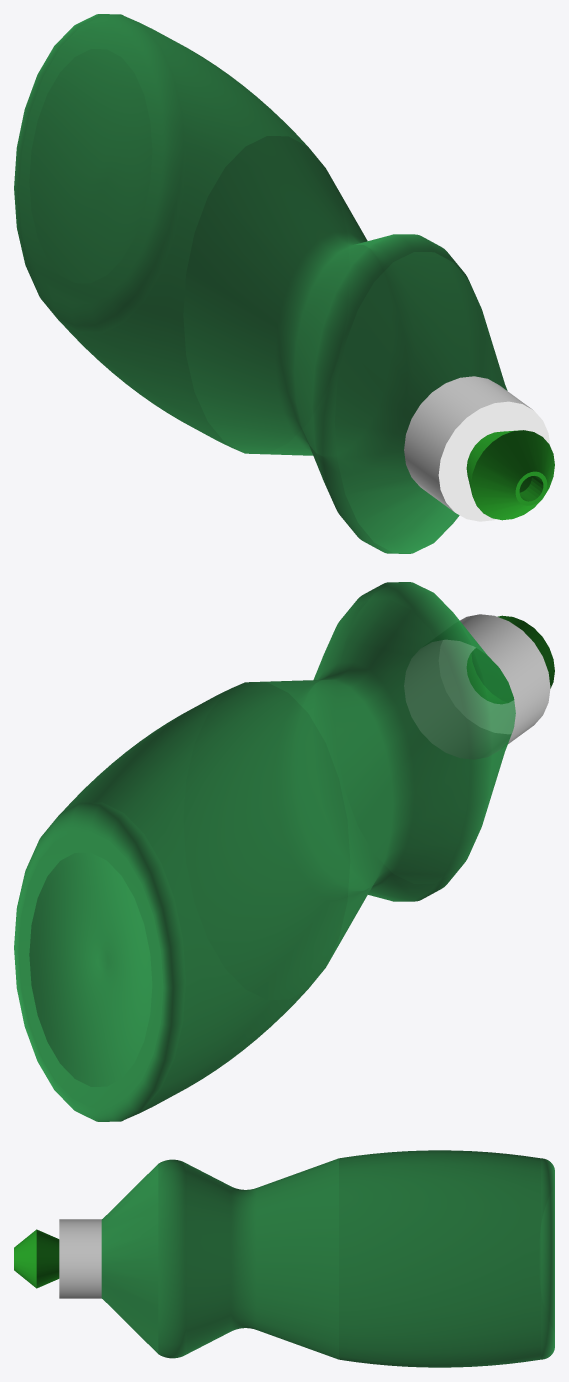
File: model_align.obj
The picture shows the model from 3 angles, top to bottom: view 1: azimuth 30°, elevation 25°; view 2: azimuth 150°, elevation 25°; view 3: azimuth 270°, elevation 25°; orthographic projection. The views are drawn at different scales.
Visible parts, largest first — view 1: mesh6_mesh6-geometry, mesh4_mesh4-geometry, mesh1_mesh1-geometry; view 2: mesh6_mesh6-geometry, mesh4_mesh4-geometry, mesh1_mesh1-geometry; view 3: mesh6_mesh6-geometry, mesh4_mesh4-geometry, mesh1_mesh1-geometry.
Part boxes in pixels (left/top/right/bottom): mesh6_mesh6-geometry: left=14, top=14, right=507, bottom=553; mesh4_mesh4-geometry: left=404, top=376, right=550, bottom=521; mesh1_mesh1-geometry: left=466, top=430, right=554, bottom=520; mesh6_mesh6-geometry: left=14, top=582, right=515, bottom=1121; mesh4_mesh4-geometry: left=404, top=614, right=550, bottom=759; mesh1_mesh1-geometry: left=467, top=615, right=554, bottom=703; mesh6_mesh6-geometry: left=101, top=1150, right=554, bottom=1367; mesh4_mesh4-geometry: left=59, top=1219, right=101, bottom=1298; mesh1_mesh1-geometry: left=14, top=1229, right=59, bottom=1288.
Bounding box in the file's own units: 0.0534 × 0.0971 × 0.2261.
